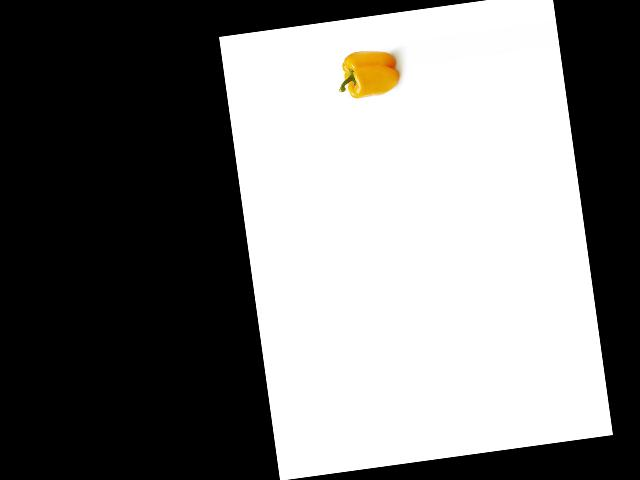bell_pepper: (331, 45, 402, 106)
